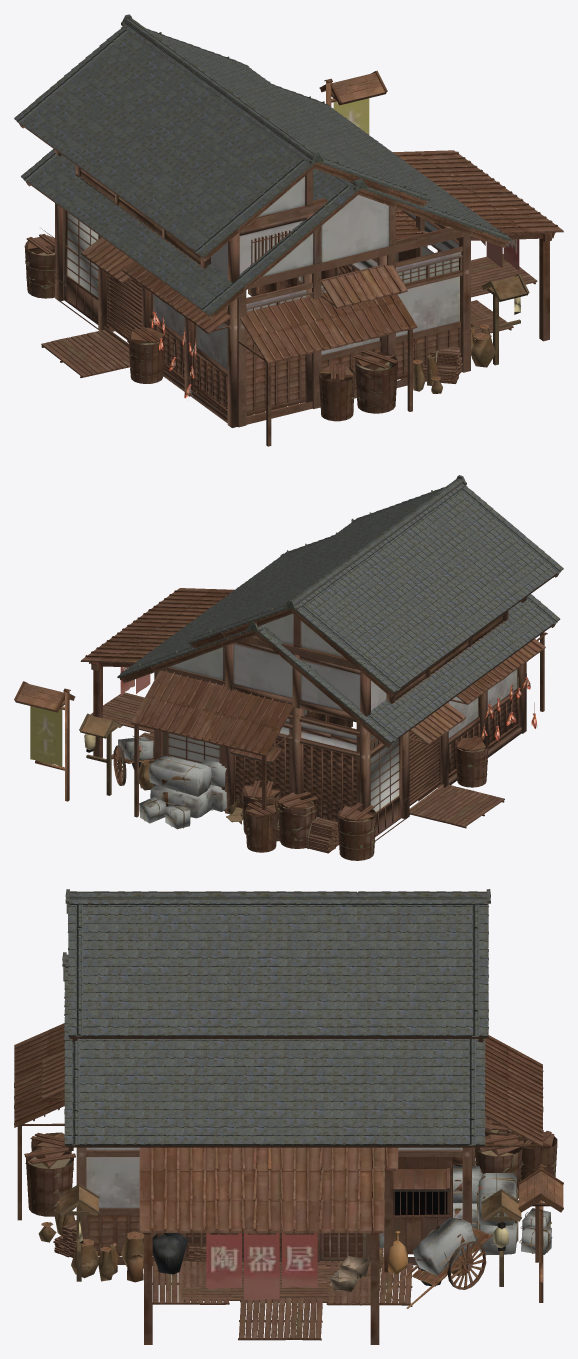
File: houses.glb
The picture shows the model from 3 angles, top to bottom: view 1: azimuth 30°, elevation 25°; view 2: azimuth 150°, elevation 25°; view 3: azimuth 270°, elevation 25°; orthographic projection. The views are drawn at different scales.
Parts seen in each view (by area): view 1: House2, House5; view 2: House2, House5; view 3: House5, House2.
Boxes of the visible parts, x1=… form: House2: x1=14, y1=14, x2=529, y2=446; House5: x1=21, y1=81, x2=563, y2=427; House2: x1=14, y1=475, x2=563, y2=852; House5: x1=79, y1=532, x2=560, y2=860; House5: x1=24, y1=952, x2=552, y2=1344; House2: x1=14, y1=889, x2=563, y2=1308.
Bounding box in the file's own units: 11.79 × 7.07 × 11.41.
Materials: 7 (7 with a texture image).
